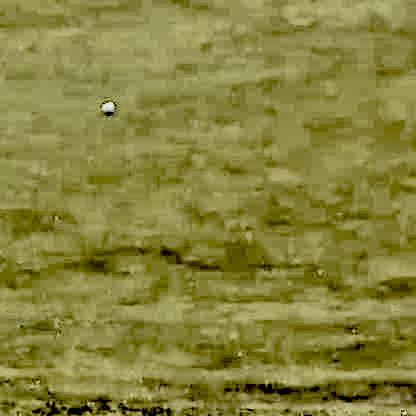golfball: (98, 99, 113, 113)
